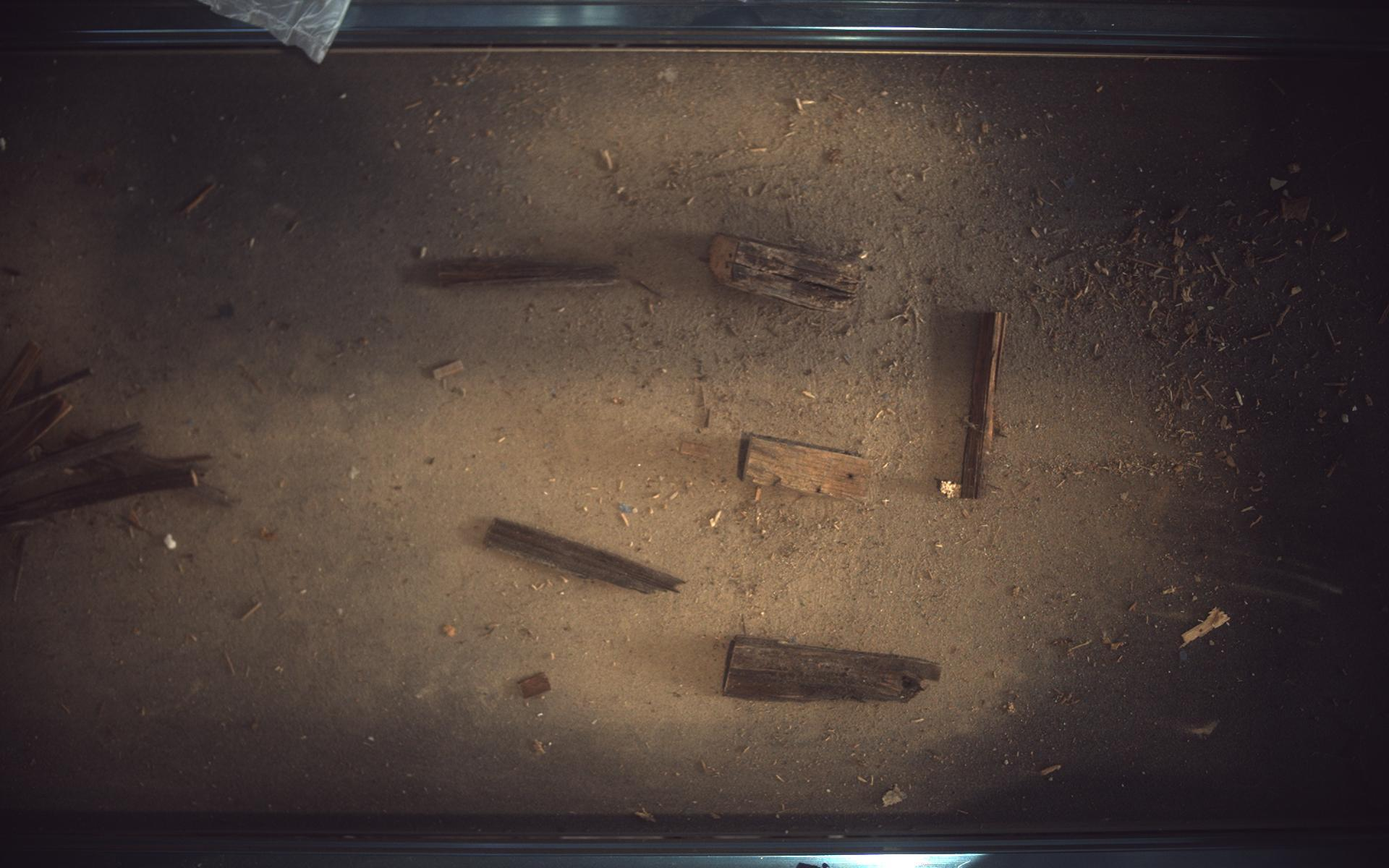wood: (1, 446, 208, 529), (485, 518, 685, 595), (723, 637, 943, 703), (710, 233, 862, 310), (1, 341, 90, 471), (963, 311, 1011, 498), (739, 435, 872, 500), (408, 256, 621, 287)
